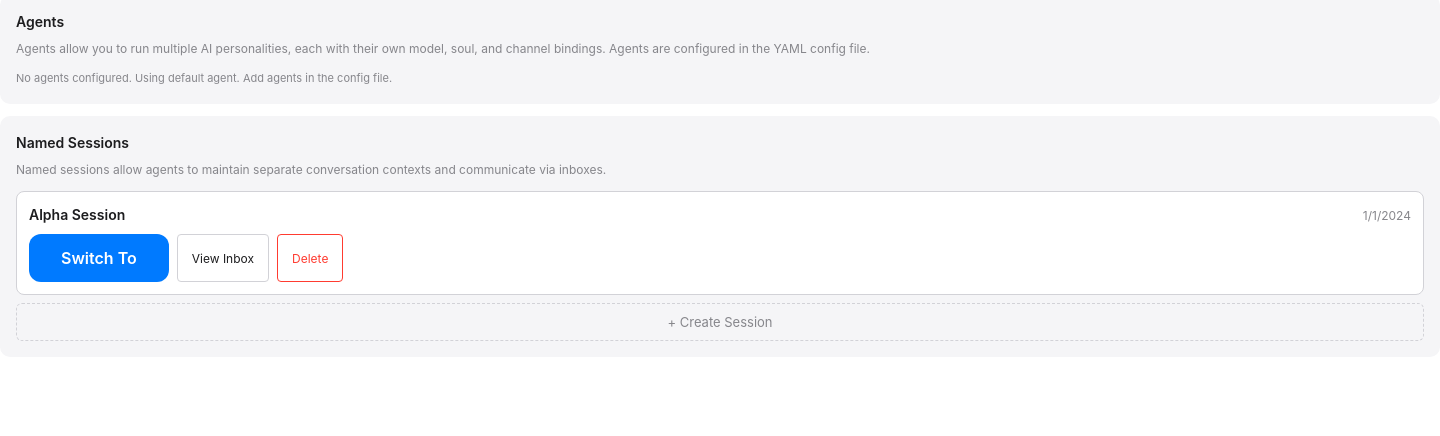
Test case: Sessions — inbox › shows inbox messages when View Inbox is clicked
expect the text "Alpha Session" is shown: met, box [29,204,125,226]
Click the button "View Inbox": (223, 258) [177,234,269,282]
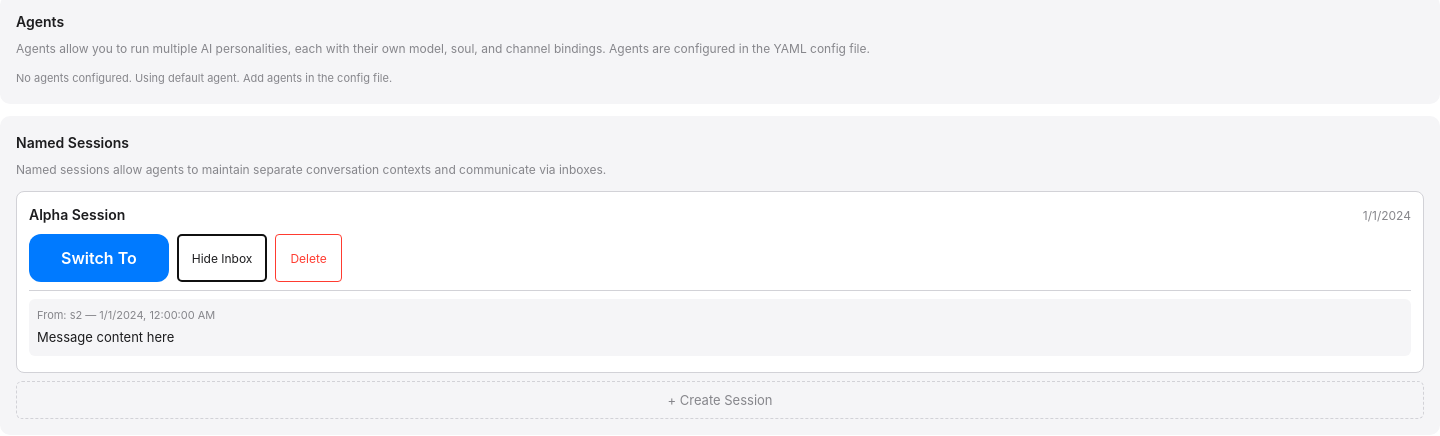
expect the text "Message content here" is shown: met, box [37,329,174,345]
